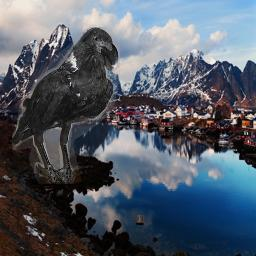Crow: (12, 27, 120, 184)
